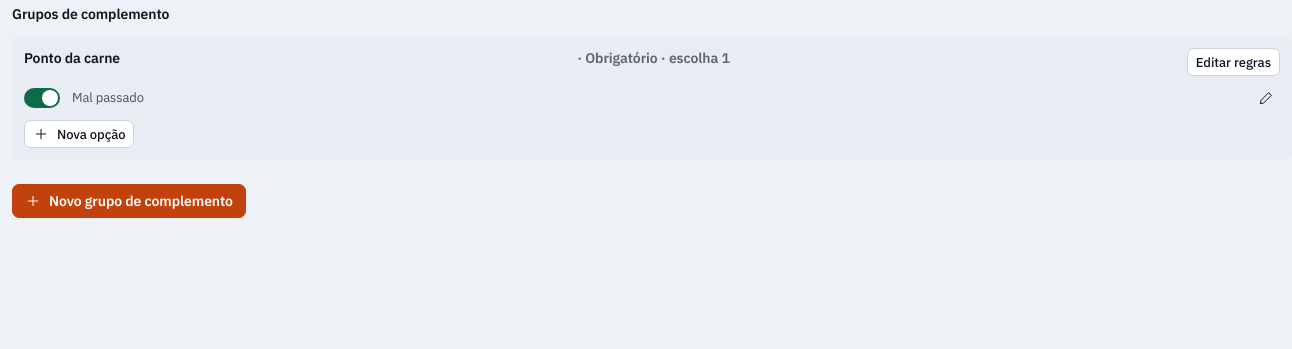
opção que tira o item de venda › ao confirmar, desativa e RELÊ a lista
Click the switch named "Mal passado ativa" at (42, 98), box [16,76,68,120]
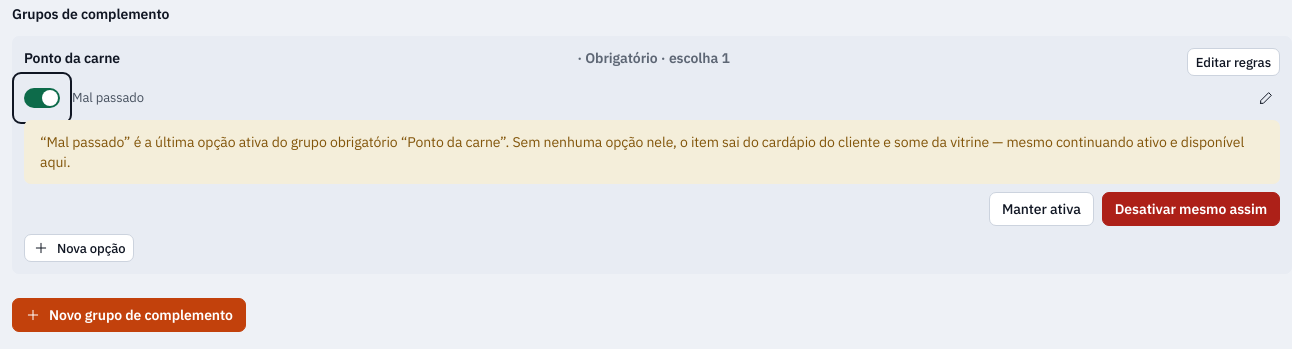
Click the button with test id "confirm-deactivate-option" at (1191, 209), box [1102,192,1280,226]
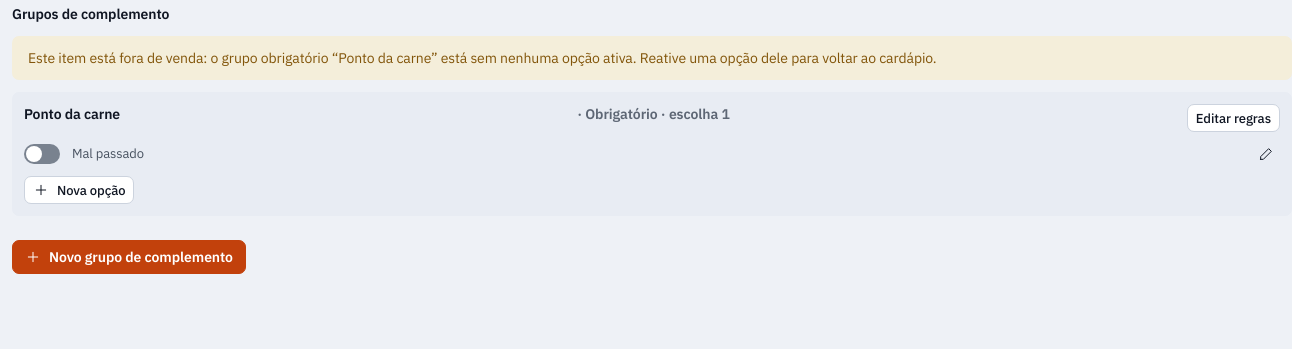
Expected: the text with test id "product-blocked-warning" shows "fora de venda", [28,49,338,67]
